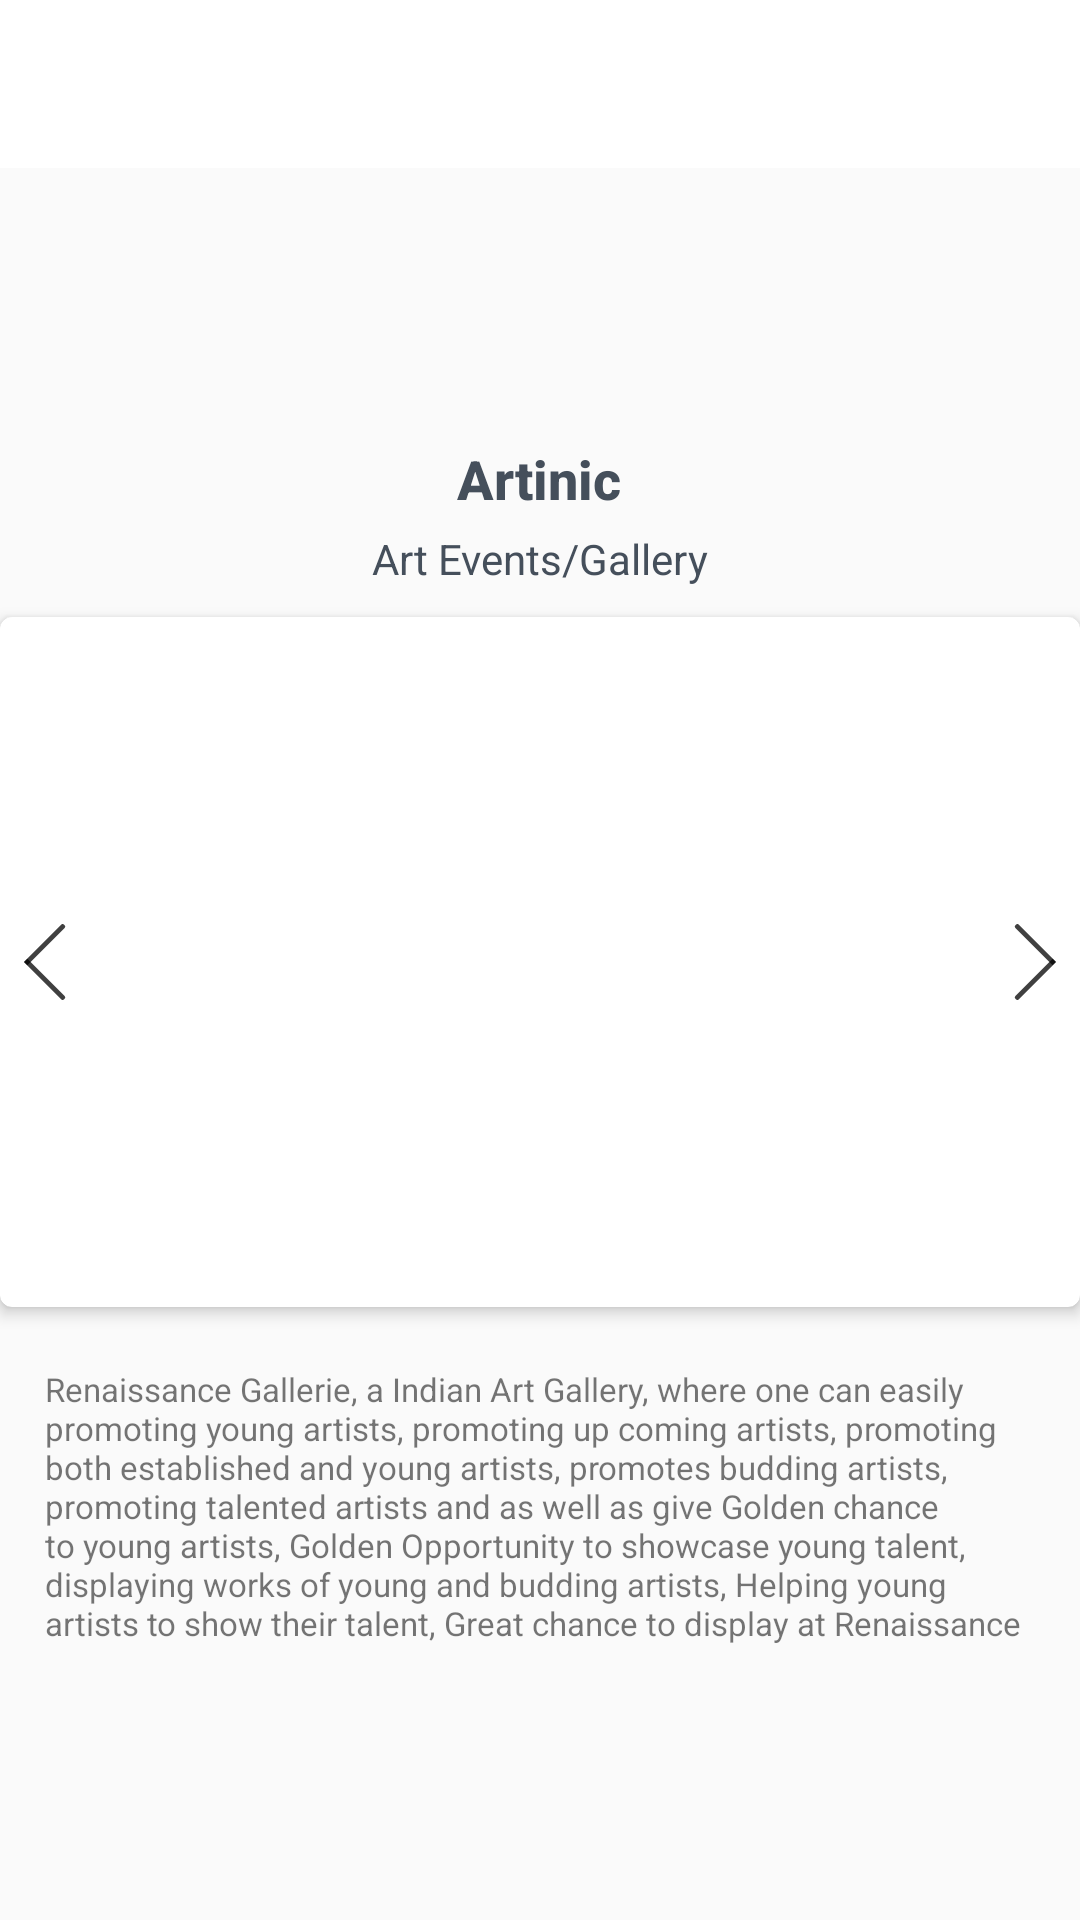

Where icons sit on this 1080px×1920px app screen, as (x1, y1, x2, y2):
arrow left: (24, 924, 66, 1000)
arrow right: (1014, 924, 1056, 1000)
